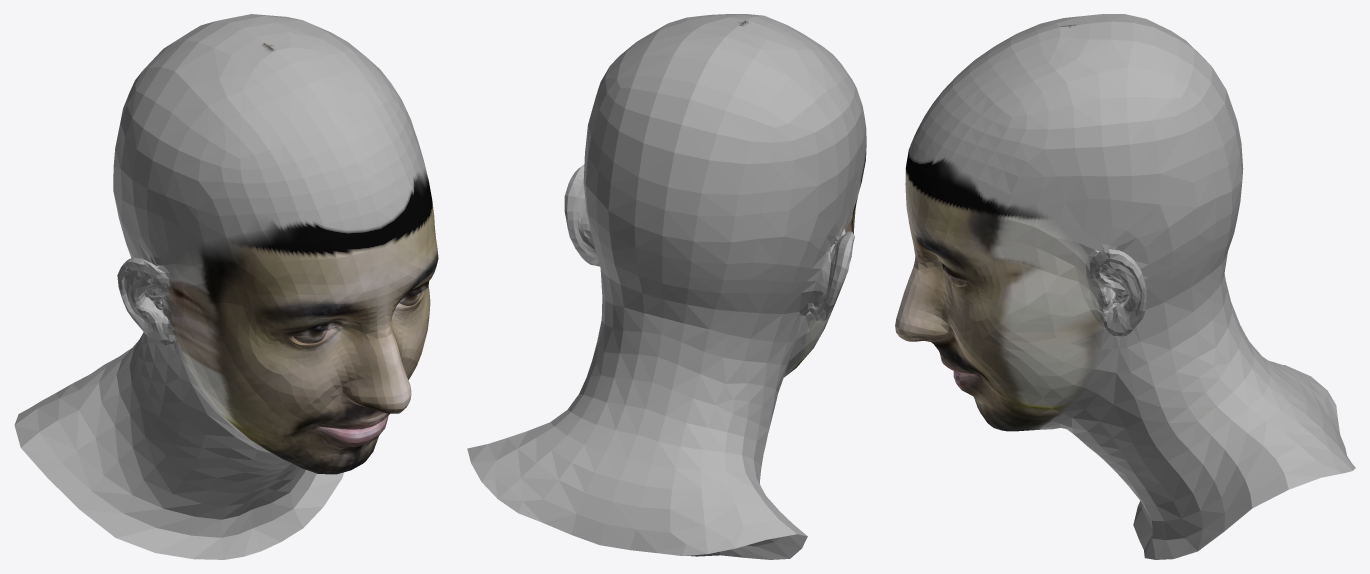
Rendered from ezgif-frame-067.obj.
3 views of the same model, side by side, from view 1: azimuth 30°, elevation 25°; view 2: azimuth 150°, elevation 25°; view 3: azimuth 270°, elevation 25° (orthographic). The views are drawn at different scales.
Bounding box in the file's own units: 0.2085 × 0.3279 × 0.2674.
1 material, 1 textured.
